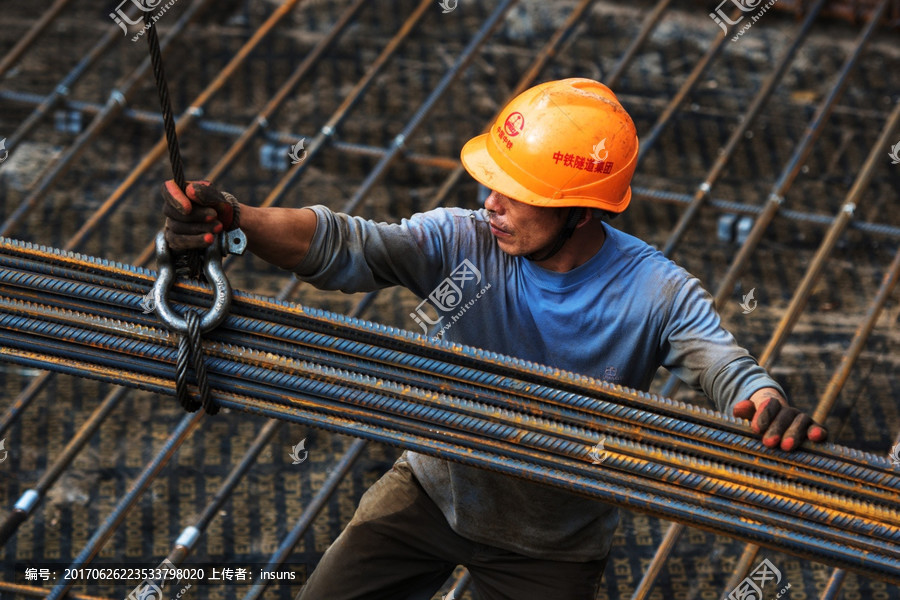safetyhat: (176, 74, 834, 475)
